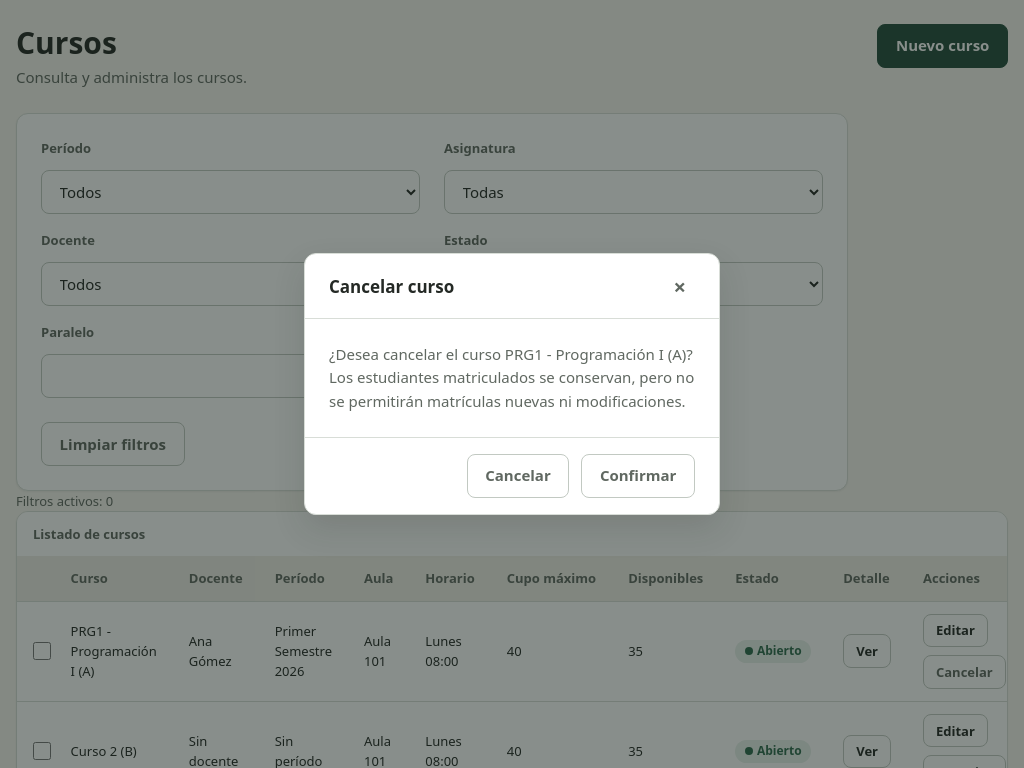
ListadoCursosComponent › muestra error de conflicto al cancelar
Click the button "Confirmar": (638, 476) [581,454,695,498]
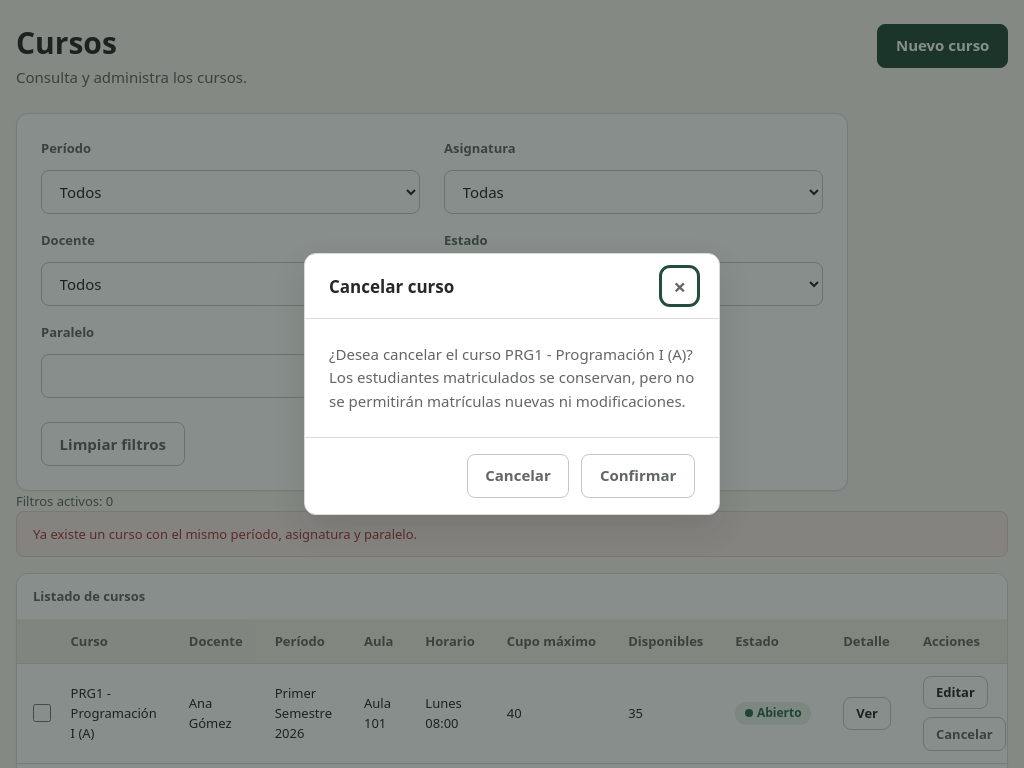
expect the text "Ya existe un curso con el mismo período, asignatura y paralelo." is shown: met, box [16,511,1008,557]
